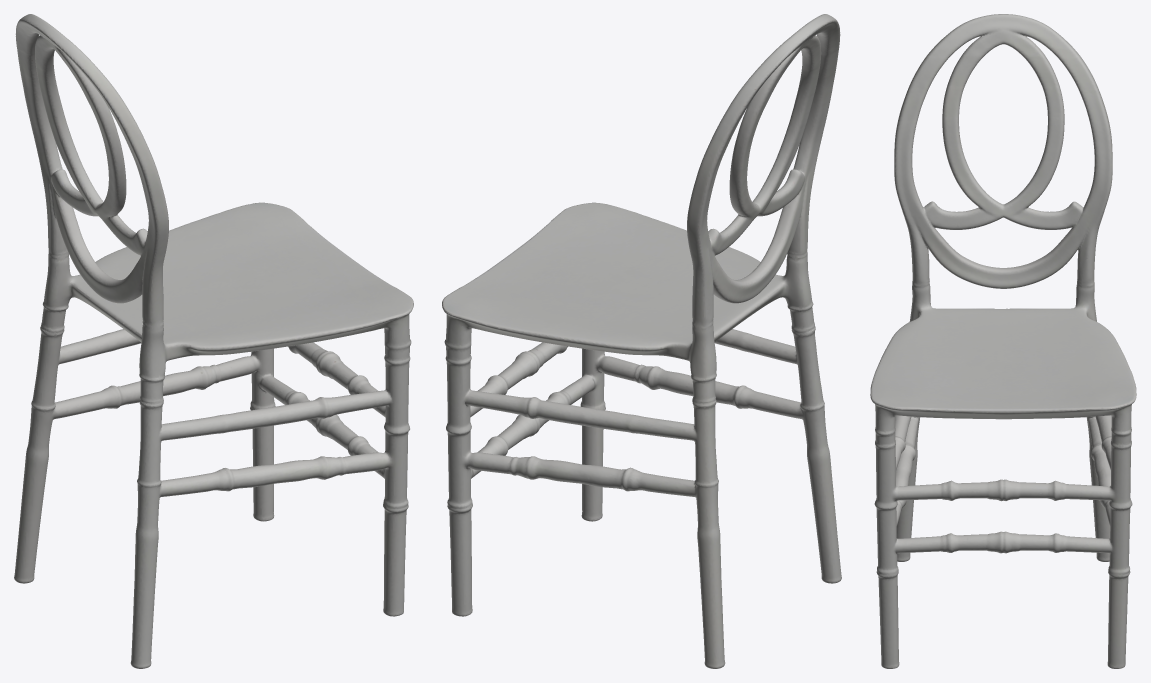
3 views of the same model, side by side, from view 1: azimuth 30°, elevation 25°; view 2: azimuth 150°, elevation 25°; view 3: azimuth 270°, elevation 25° (orthographic). The views are drawn at different scales.
Visible parts, largest first — view 1: tripo_node_c873cbbb-fc8f-4d08-ba69-9ad343775abe; view 2: tripo_node_c873cbbb-fc8f-4d08-ba69-9ad343775abe; view 3: tripo_node_c873cbbb-fc8f-4d08-ba69-9ad343775abe.
Boxes of the visible parts, bbox=[...] form: tripo_node_c873cbbb-fc8f-4d08-ba69-9ad343775abe: bbox=[14, 14, 413, 668]; tripo_node_c873cbbb-fc8f-4d08-ba69-9ad343775abe: bbox=[442, 14, 841, 668]; tripo_node_c873cbbb-fc8f-4d08-ba69-9ad343775abe: bbox=[870, 14, 1136, 668].
Size of the model in its own units: 0.5355 by 1 by 0.4535.
Materials: 1 (1 with a texture image).
